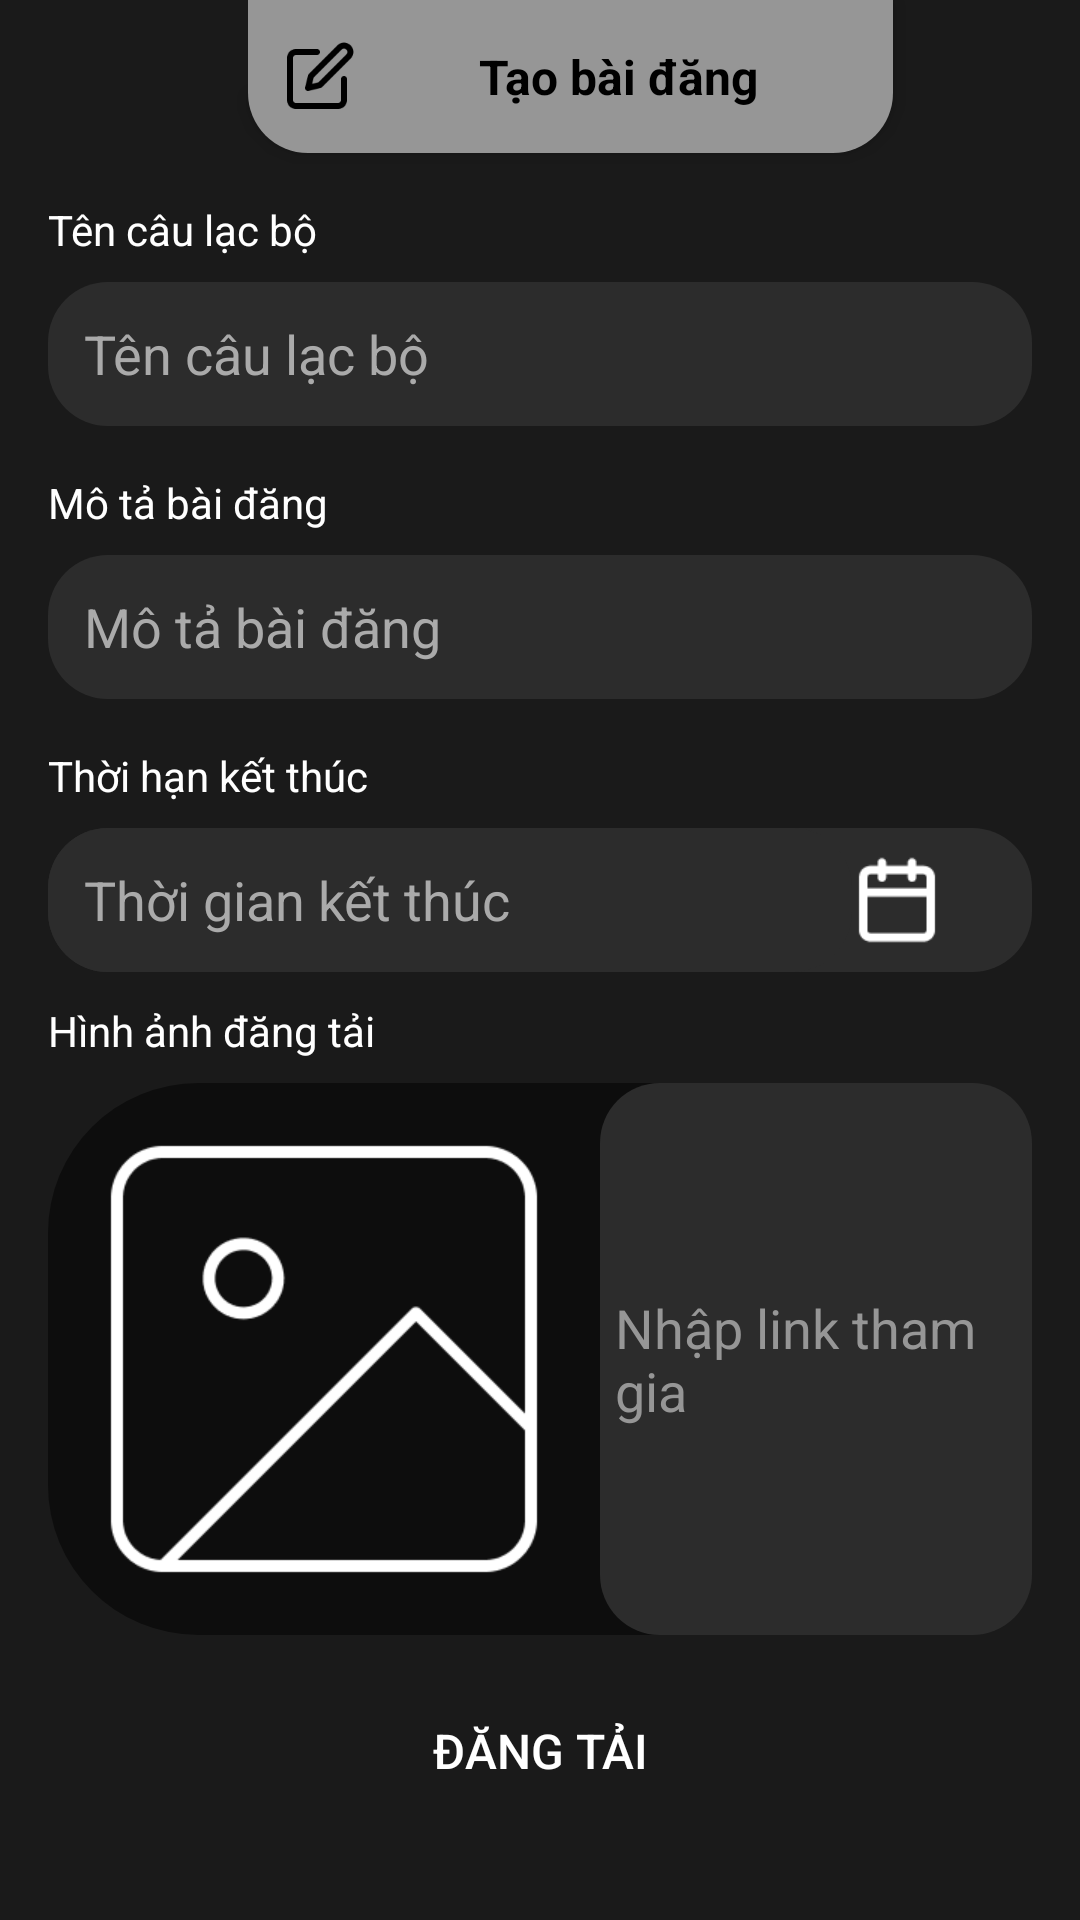

Named icons in this screenshot (1080×1920) and their centers, (x=x, y=y):
penblackadmin: (x=320, y=75)
